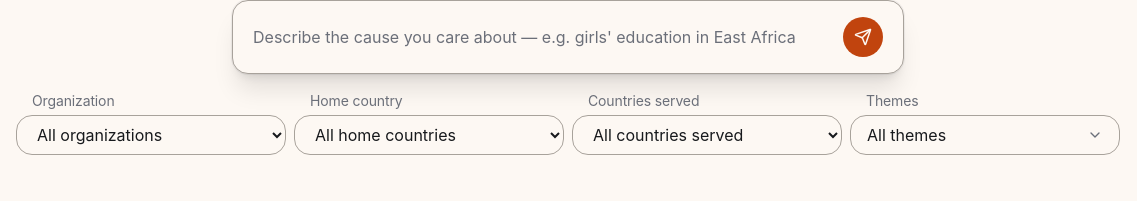
it: SearchControls › shows "Clear filters" once a dropdown filter is set
This screenshot has width=1137, height=201.
Select "Armenia" in the dropdown labelled "Home country": (429, 135) [294,115,564,155]
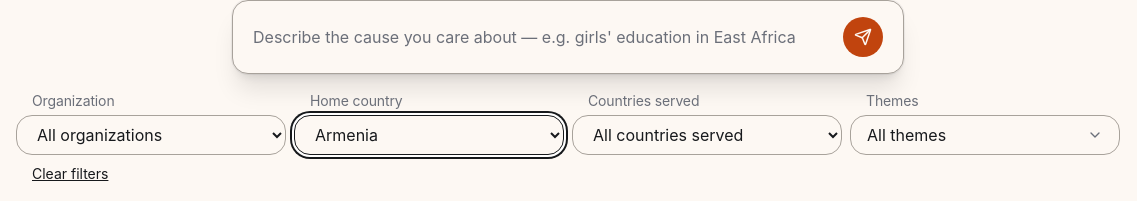
Expected: the button "Clear filters" is shown, [16,163,108,184]
